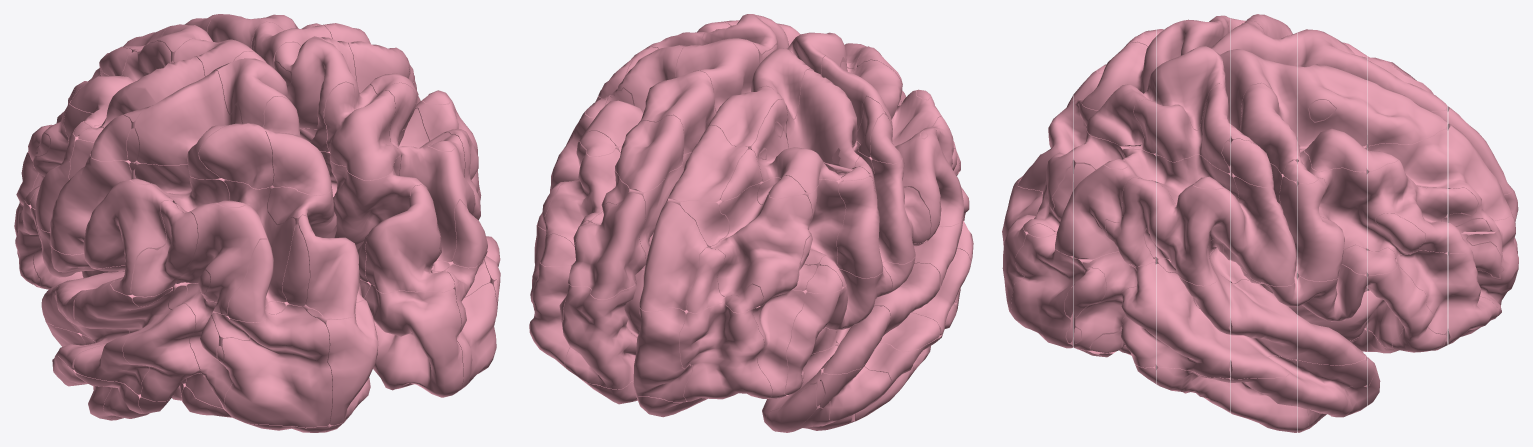
File: brain-puzzle.glb
3 renders of one model, left to right at view 1: azimuth 30°, elevation 25°; view 2: azimuth 150°, elevation 25°; view 3: azimuth 270°, elevation 25°, orthographic. The views are drawn at different scales.
Parts seen in each view (by area): view 1: fixed_cortex, puzzle_piece_34, puzzle_piece_1, puzzle_piece_24, puzzle_piece_28, puzzle_piece_25, puzzle_piece_15, puzzle_piece_7, puzzle_piece_31, puzzle_piece_26, puzzle_piece_35, puzzle_piece_18 (+3 smaller); view 2: fixed_cortex, puzzle_piece_20, puzzle_piece_29, puzzle_piece_27, puzzle_piece_3, puzzle_piece_1, puzzle_piece_22, puzzle_piece_4, puzzle_piece_16, puzzle_piece_35, puzzle_piece_34, puzzle_piece_31 (+4 smaller); view 3: fixed_cortex, puzzle_piece_21, puzzle_piece_25, puzzle_piece_12, puzzle_piece_8, puzzle_piece_13, puzzle_piece_32, puzzle_piece_24, puzzle_piece_20, puzzle_piece_31, puzzle_piece_22, puzzle_piece_35 (+8 smaller).
Part boxes in pixels (<box>): fixed_cortex: <box>14,14,500,432</box>; puzzle_piece_34: <box>176,180,295,315</box>; puzzle_piece_1: <box>135,70,241,179</box>; puzzle_piece_24: <box>324,82,400,180</box>; puzzle_piece_28: <box>330,155,427,281</box>; puzzle_piece_25: <box>394,132,487,265</box>; puzzle_piece_15: <box>298,215,364,319</box>; puzzle_piece_7: <box>181,283,289,413</box>; puzzle_piece_31: <box>215,51,293,127</box>; puzzle_piece_26: <box>78,114,131,160</box>; puzzle_piece_35: <box>174,38,258,76</box>; puzzle_piece_18: <box>75,372,149,418</box>; fixed_cortex: <box>529,14,973,432</box>; puzzle_piece_20: <box>562,281,636,389</box>; puzzle_piece_29: <box>639,201,707,311</box>; puzzle_piece_27: <box>633,307,692,402</box>; puzzle_piece_3: <box>752,289,807,398</box>; puzzle_piece_1: <box>821,55,902,131</box>; puzzle_piece_22: <box>706,86,783,159</box>; puzzle_piece_4: <box>820,363,890,421</box>; puzzle_piece_16: <box>687,247,763,313</box>; puzzle_piece_35: <box>751,48,810,135</box>; puzzle_piece_34: <box>891,90,959,175</box>; puzzle_piece_31: <box>762,32,853,75</box>; fixed_cortex: <box>1002,14,1511,432</box>; puzzle_piece_21: <box>1231,266,1296,378</box>; puzzle_piece_25: <box>1073,149,1155,259</box>; puzzle_piece_12: <box>1367,250,1447,350</box>; puzzle_piece_8: <box>1367,262,1446,352</box>; puzzle_piece_13: <box>1297,354,1366,432</box>; puzzle_piece_32: <box>1300,149,1366,250</box>; puzzle_piece_24: <box>1086,69,1155,146</box>; puzzle_piece_20: <box>1461,214,1518,320</box>; puzzle_piece_31: <box>1156,19,1230,67</box>; puzzle_piece_22: <box>1297,29,1366,79</box>; puzzle_piece_35: <box>1231,21,1296,65</box>.
Size of the model in its own units: 2.23 by 2.06 by 2.8.
